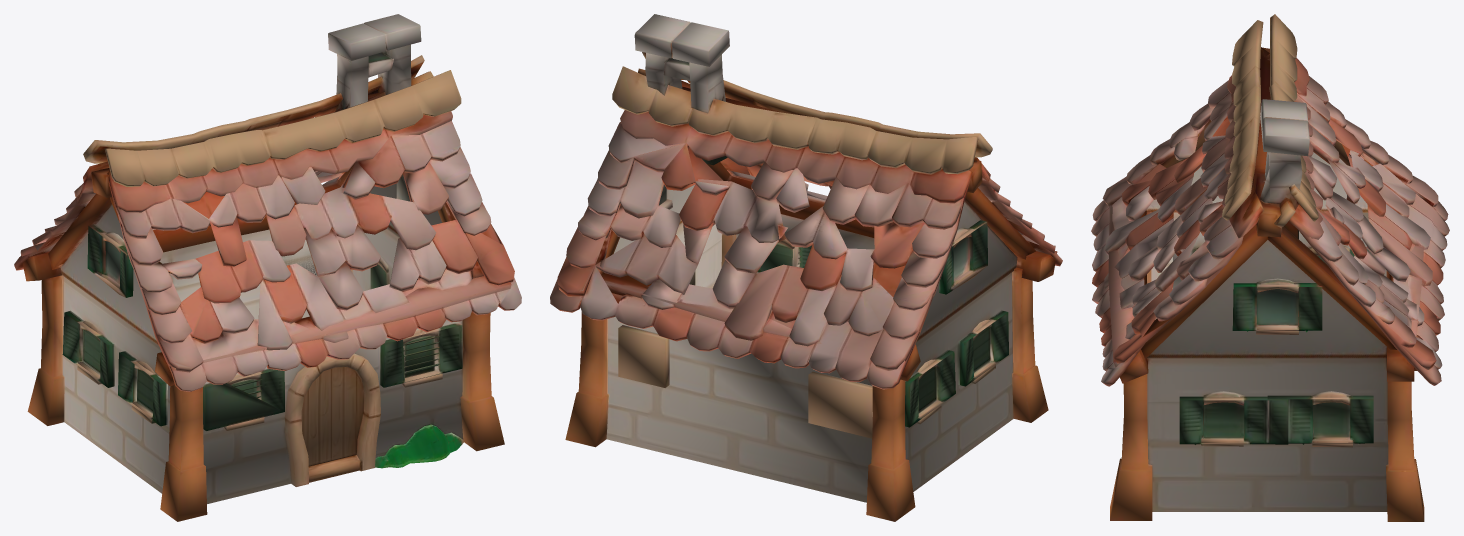
Rendered from bld_house_a_v1.glb.
3 views of the same model, side by side, from view 1: azimuth 30°, elevation 25°; view 2: azimuth 150°, elevation 25°; view 3: azimuth 270°, elevation 25° (orthographic). The views are drawn at different scales.
Visible parts, largest first — view 1: tripo_node_655440da-4f89-42ca-99f5-3a57780a4919; view 2: tripo_node_655440da-4f89-42ca-99f5-3a57780a4919; view 3: tripo_node_655440da-4f89-42ca-99f5-3a57780a4919.
Boxes of the visible parts, left/top/right/bottom form: tripo_node_655440da-4f89-42ca-99f5-3a57780a4919: left=14, top=14, right=521, bottom=521; tripo_node_655440da-4f89-42ca-99f5-3a57780a4919: left=550, top=14, right=1062, bottom=521; tripo_node_655440da-4f89-42ca-99f5-3a57780a4919: left=1091, top=14, right=1449, bottom=521.
Bounding box in the file's own units: 0.9902 × 0.998 × 0.8457.
1 material, 1 textured.
